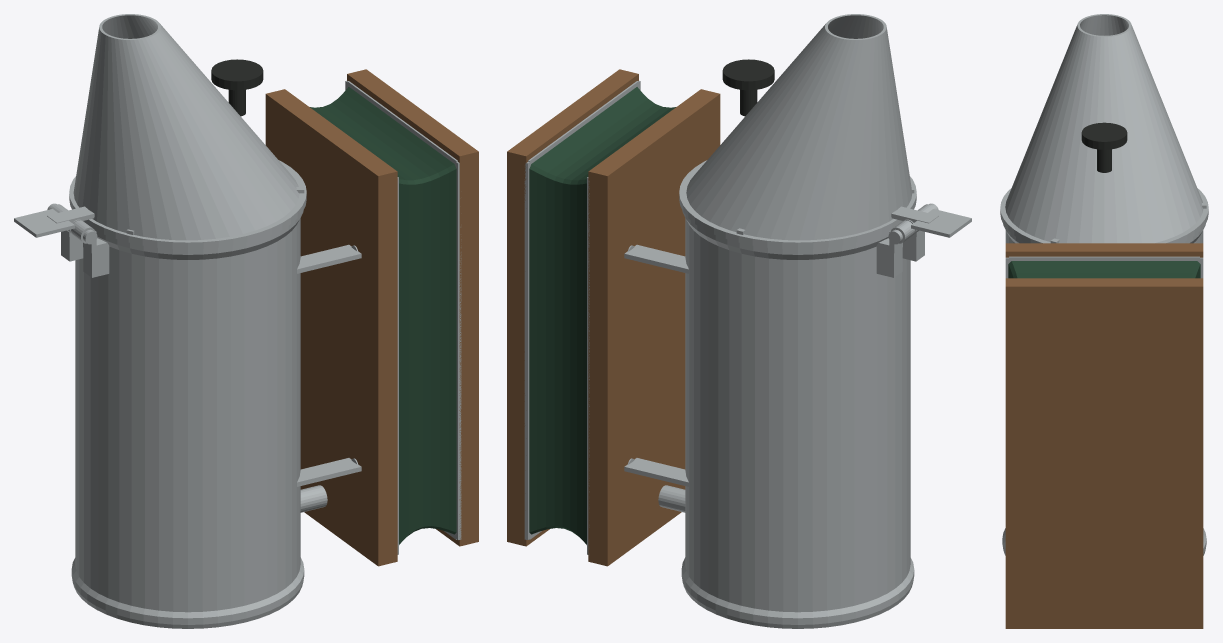
3 views of the same model, side by side, from view 1: azimuth 30°, elevation 25°; view 2: azimuth 150°, elevation 25°; view 3: azimuth 270°, elevation 25° (orthographic). The views are drawn at different scales.
Parts seen in each view (by area): view 1: chamber_wall.001, bellows_fixed_board.001, lid_cone.001, flexible_bellows_skin.001, bellows_rear_board.001, bottom_rolled_seam.001, lid_seating_flange.001, mouth_rolled_rim.001, skin_vertical_clamp__0_1005___0_044_.001, handle_cap.001, bracket__0_145___0_027_.001, bracket__0_05___0_027_.001 (+4 smaller); view 2: chamber_wall.001, bellows_fixed_board.001, lid_cone.001, flexible_bellows_skin.001, bellows_rear_board.001, bottom_rolled_seam.001, lid_seating_flange.001, skin_vertical_clamp__0_1005__0_044_.001, mouth_rolled_rim.001, handle_cap.001, bracket__0_145__0_027_.001, bracket__0_05__0_027_.001 (+4 smaller); view 3: bellows_rear_board.001, lid_cone.001, flexible_bellows_skin.001, bellows_fixed_board.001, lid_seating_flange.001, handle_cap.001, skin_horizontal_clamp__0_0715__0_182_.001, handle_stem.001.
Boxes of the visible parts, box(x1,y1,x2,y2) form: chamber_wall.001: box(75, 218, 300, 612); bellows_fixed_board.001: box(265, 89, 397, 566); lid_cone.001: box(73, 14, 299, 240); flexible_bellows_skin.001: box(310, 87, 456, 544); bellows_rear_board.001: box(347, 69, 478, 546); bottom_rolled_seam.001: box(71, 557, 304, 628); lid_seating_flange.001: box(69, 160, 306, 249); mouth_rolled_rim.001: box(95, 211, 303, 259); skin_vertical_clamp__0_1005___0_044_.001: box(456, 161, 461, 539); handle_cap.001: box(211, 59, 263, 90); bracket__0_145___0_027_.001: box(297, 244, 361, 273); bracket__0_05___0_027_.001: box(297, 458, 361, 486); chamber_wall.001: box(685, 218, 910, 612); bellows_fixed_board.001: box(588, 89, 720, 566); lid_cone.001: box(686, 14, 912, 240); flexible_bellows_skin.001: box(529, 87, 675, 544); bellows_rear_board.001: box(507, 69, 638, 546); bottom_rolled_seam.001: box(681, 557, 914, 628); lid_seating_flange.001: box(679, 160, 916, 249); skin_vertical_clamp__0_1005__0_044_.001: box(524, 161, 531, 539); mouth_rolled_rim.001: box(682, 211, 890, 259); handle_cap.001: box(722, 59, 774, 90); bracket__0_145__0_027_.001: box(624, 244, 688, 273); bracket__0_05__0_027_.001: box(624, 458, 688, 486); bellows_rear_board.001: box(1005, 278, 1203, 628); lid_cone.001: box(1005, 14, 1203, 243); flexible_bellows_skin.001: box(1008, 261, 1200, 278); bellows_fixed_board.001: box(1005, 243, 1203, 257); lid_seating_flange.001: box(1000, 188, 1208, 243); handle_cap.001: box(1081, 122, 1127, 149); skin_horizontal_clamp__0_0715__0_182_.001: box(1009, 256, 1199, 262); handle_stem.001: box(1097, 149, 1111, 172).
Bounding box in the file's own units: 0.1855 × 0.253 × 0.096.
